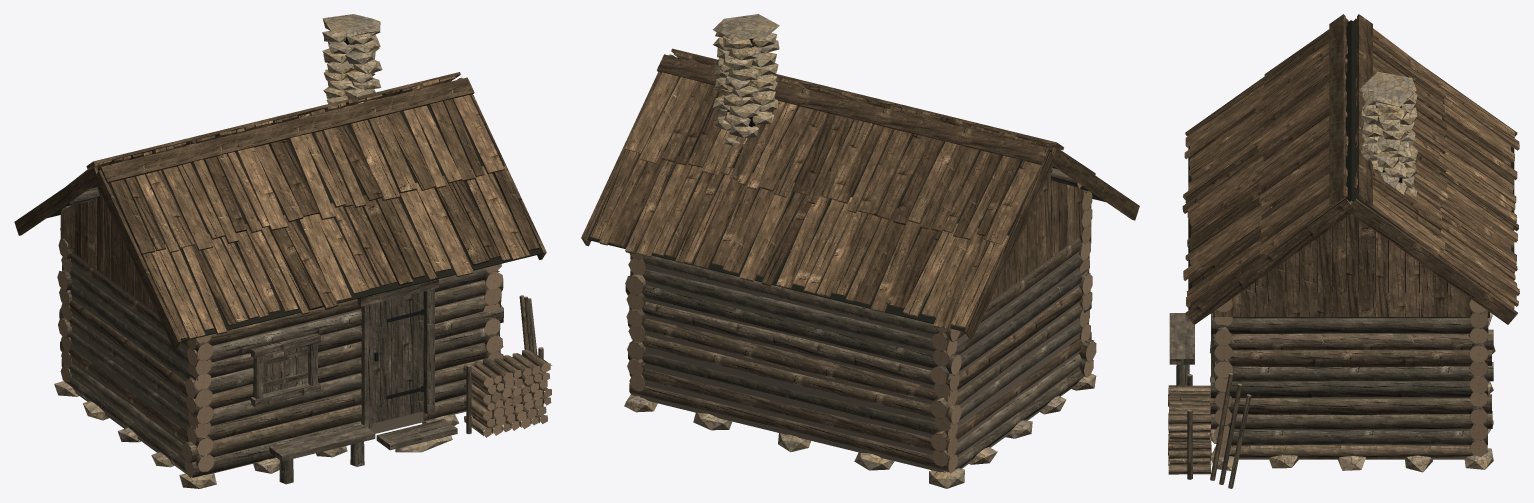
File: house-w1-lite.glb
3 views of the same model, side by side, from view 1: azimuth 30°, elevation 25°; view 2: azimuth 150°, elevation 25°; view 3: azimuth 270°, elevation 25° (orthographic). The views are drawn at different scales.
Parts seen in each view (by area): view 1: Body, Door; view 2: Body; view 3: Body.
Part boxes in pixels (<box>): Body: <box>14,14,551,488</box>; Door: <box>372,291,424,423</box>; Body: <box>581,14,1139,488</box>; Body: <box>1168,14,1519,488</box>.
Size of the model in its own units: 6 by 5.22 by 4.69.
4 materials, 3 textured.
